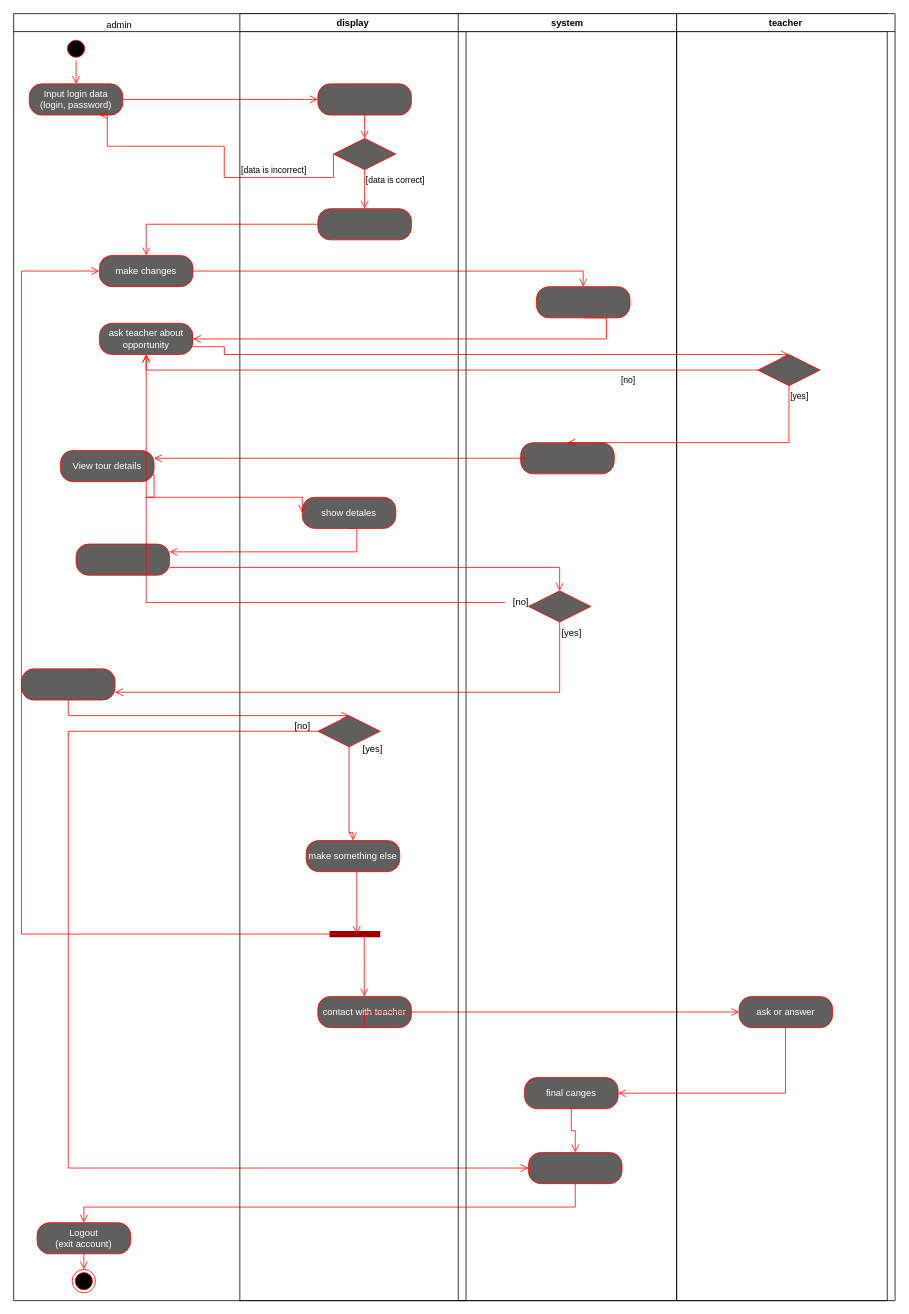
Some shapes in this 909 by 1314 pixel diagram are drawn without their labels. Each missing label, with the centre of its shape:
"all good" belongs at point (122, 559).
"Authorisation" belongs at point (364, 224).
"Check input data" belongs at point (364, 99).
"make distribution" belongs at point (567, 458).
"need something else" belongs at point (68, 684).
"save changes" belongs at point (575, 1168).
"Send request for searching criterias" belongs at point (583, 302).
